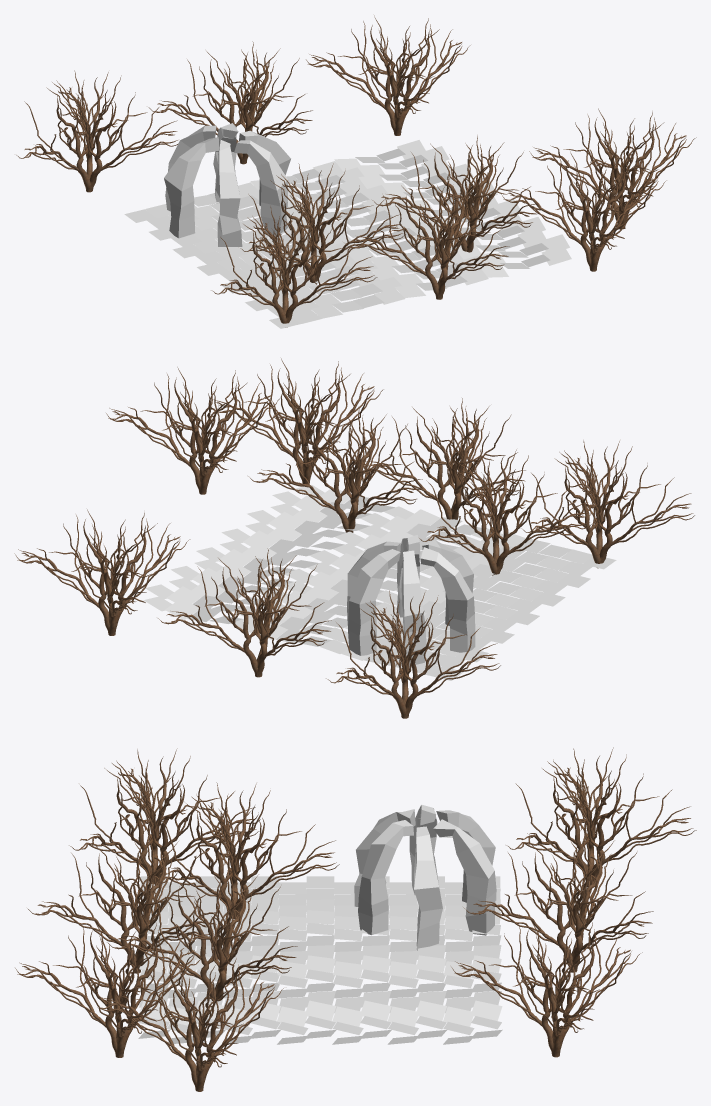
3 renders of one model, top to bottom at view 1: azimuth 30°, elevation 25°; view 2: azimuth 150°, elevation 25°; view 3: azimuth 270°, elevation 25°, orthographic. The views are drawn at different scales.
Parts seen in each view (by area): view 1: Cube.003, Grid.001, Cube.002; view 2: Cube.003, Grid.001, Cube.002; view 3: Cube.003, Grid.001, Cube.002.
Boxes of the visible parts, bbox=[...] form: Cube.003: bbox=[16, 15, 696, 327]; Grid.001: bbox=[124, 140, 571, 328]; Cube.002: bbox=[164, 123, 290, 246]; Cube.003: bbox=[14, 358, 694, 718]; Grid.001: bbox=[143, 485, 616, 680]; Cube.002: bbox=[347, 535, 475, 666]; Cube.003: bbox=[15, 747, 696, 1091]; Grid.001: bbox=[138, 876, 502, 1044]; Cube.002: bbox=[354, 804, 496, 950].
Size of the model in its own units: 50.79 by 10.34 by 49.35.
Materials: 1 (1 with a texture image).
